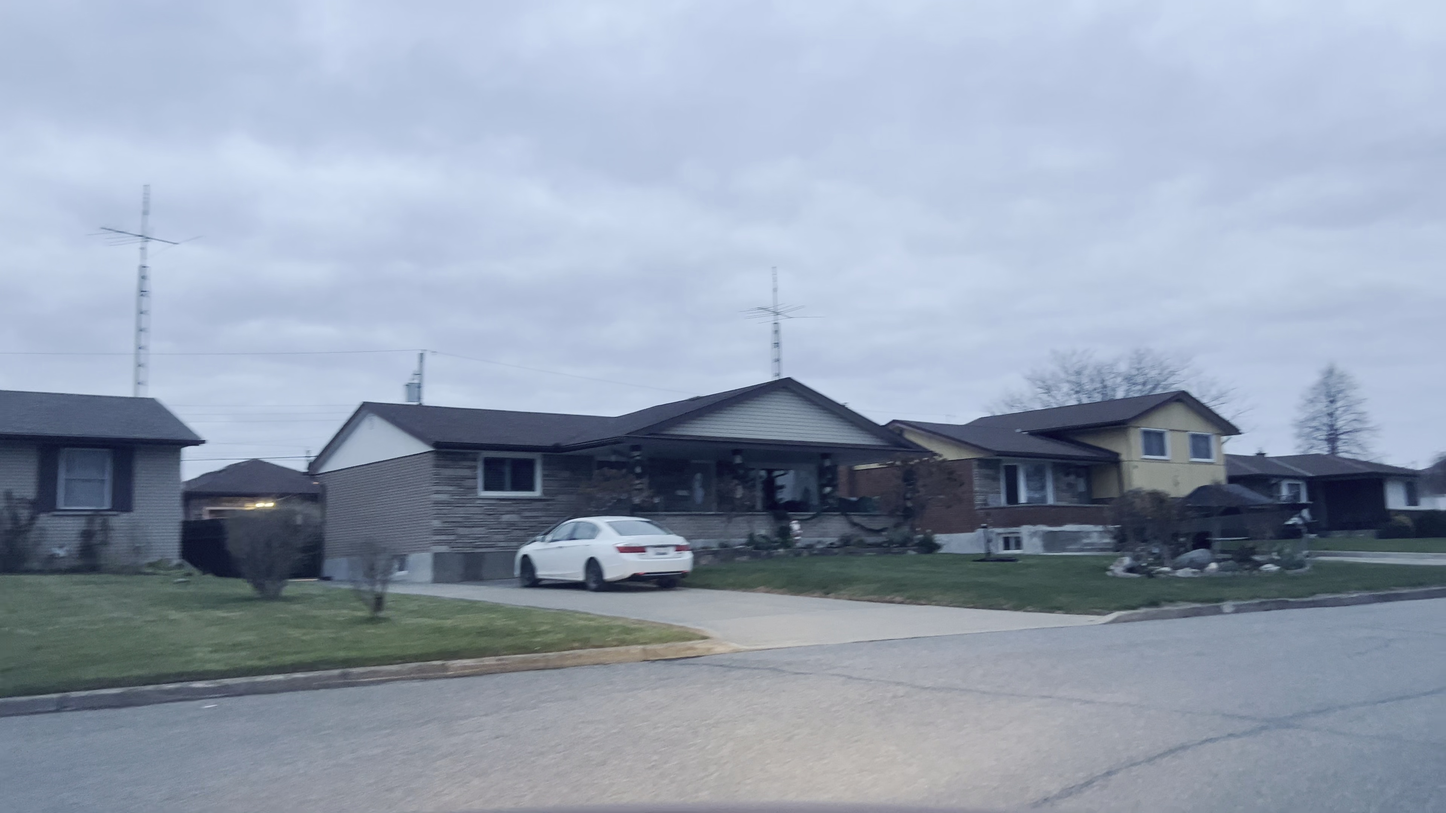cracks: (1021, 756, 1155, 810), (1173, 717, 1310, 753)
